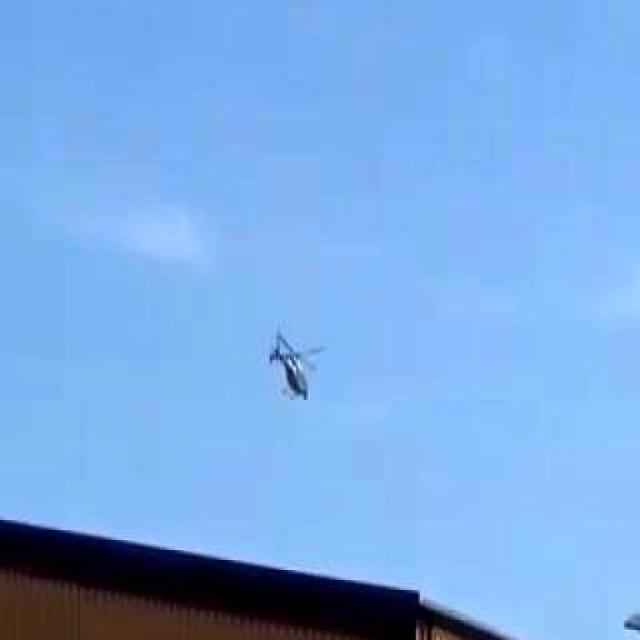drone: (236, 295, 332, 439)
